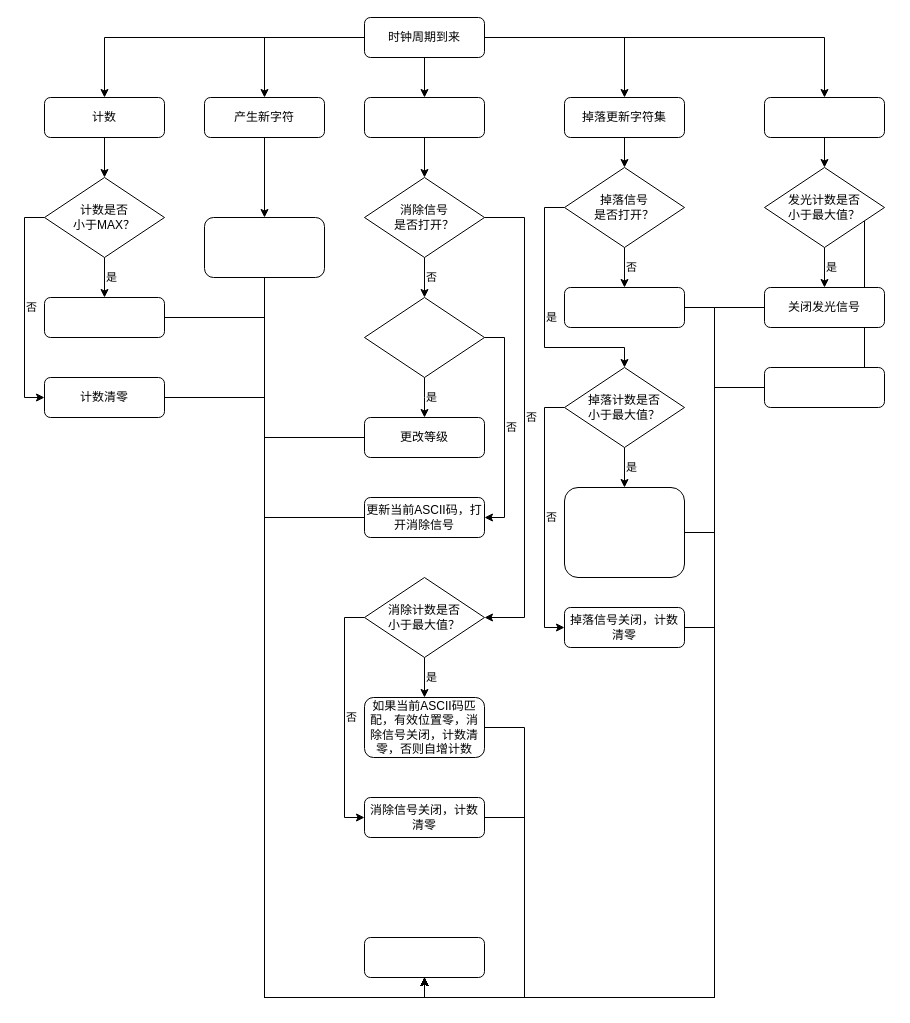
Some shapes in this 910 by 1023 pixel diagram are drawn without their labels. The shapes that lost their labels are listed below. From the top down, each one's centre as x and y in pixels, then its label:
At [424,117]: "检测ASCII码".
At [824,117]: "发光提示符更新".
At [264,247]: "当前位置生成颜色，字符，显存位置，当前位置自增".
At [104,317]: "计数自增".
At [624,307]: "打开掉落信号".
At [424,337]: "ASCII码是否 代表1-4".
At [824,387]: "发光计数自增".
At [624,532]: "对当前位置ASCII的坐标移动至下一行，若超出范围，则有效位置零，最后计数自增并更新发光提示符位置".
At [424,957]: "下一个时钟周期到来".
